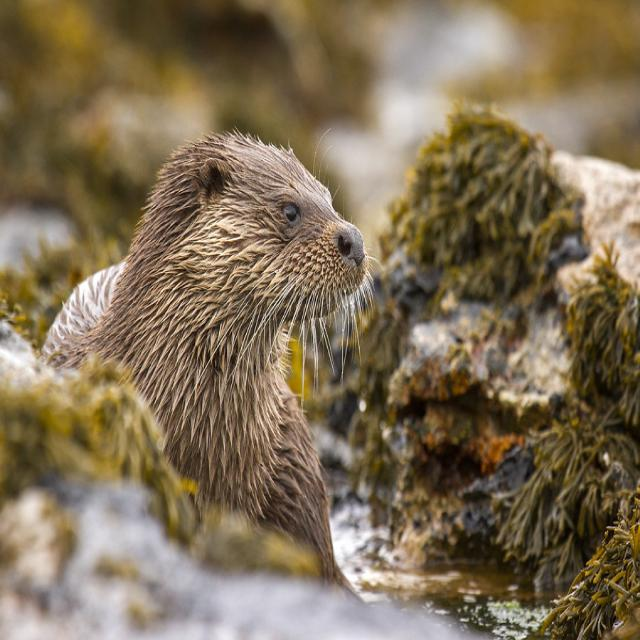otter: (45, 132, 367, 546)
